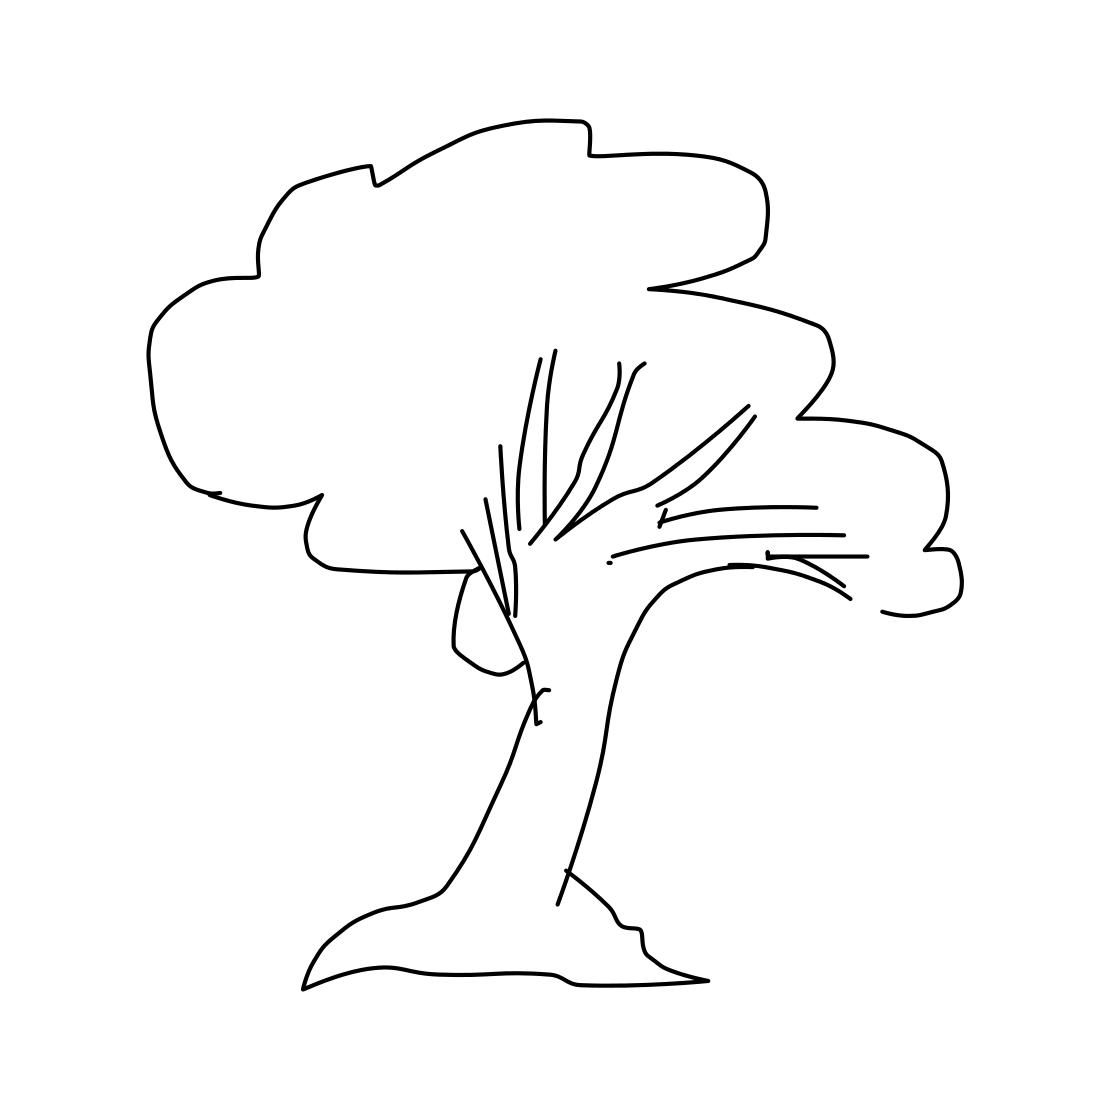Tree: (134, 50, 986, 1002)
